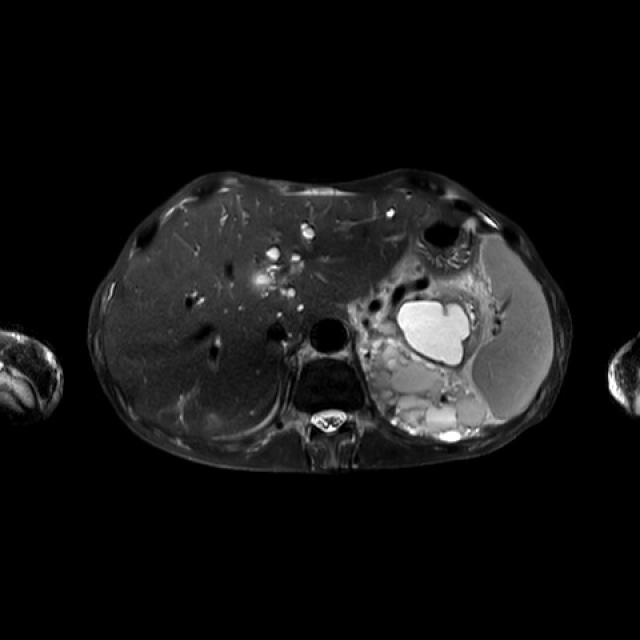sol: (358, 298, 490, 443)
